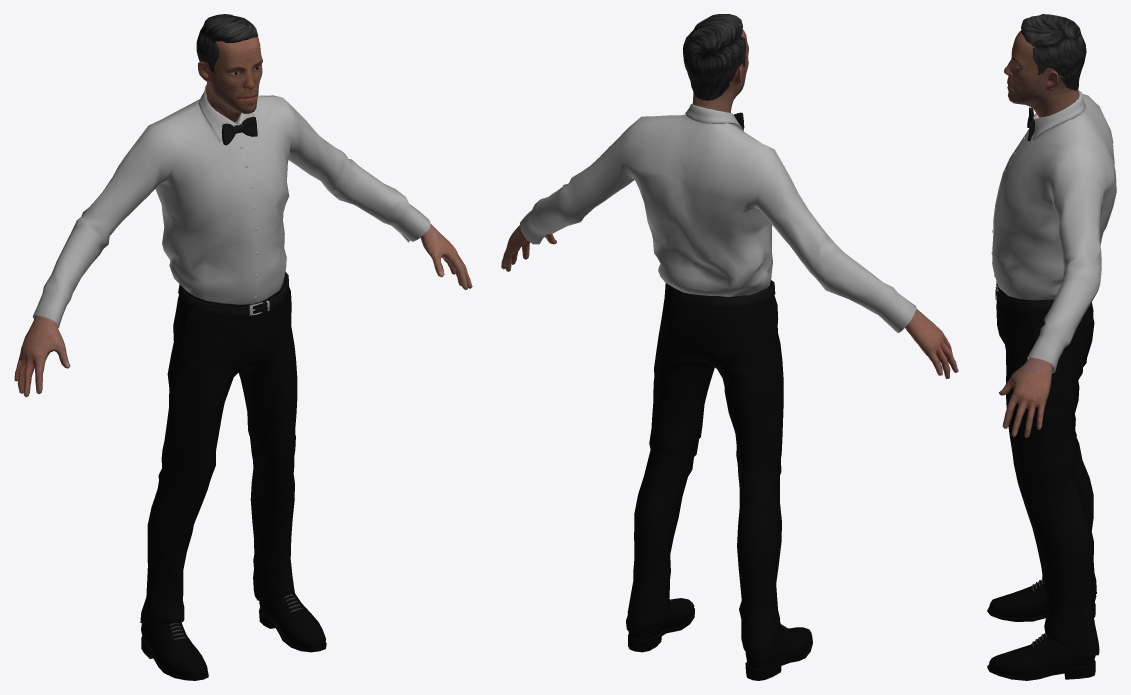
The model's file is Waiter_LODs.fbx.
3 views of the same model, side by side, from view 1: azimuth 30°, elevation 25°; view 2: azimuth 150°, elevation 25°; view 3: azimuth 270°, elevation 25° (orthographic).
Visible parts, largest first — view 1: LOD0; view 2: LOD0; view 3: LOD0.
Boxes of the visible parts, x1,y1,x2,y2 form: LOD0: [14, 14, 472, 680]; LOD0: [501, 14, 958, 680]; LOD0: [987, 14, 1116, 680].
Bounding box in the file's own units: 138 × 186 × 34.83.
